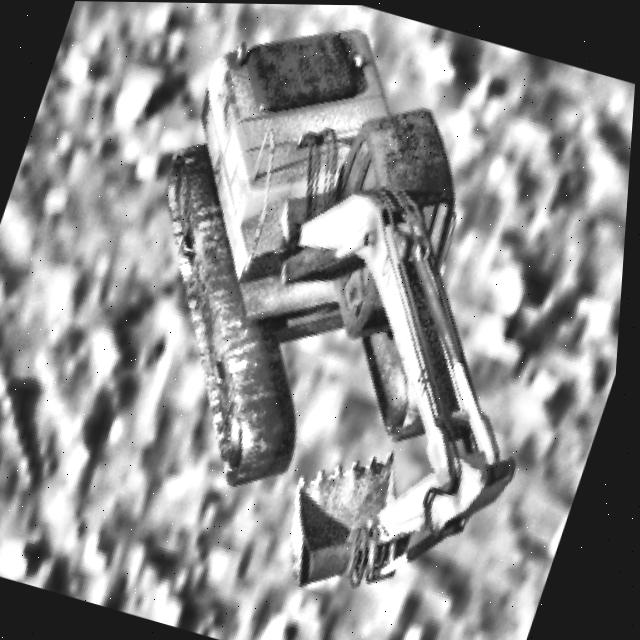excavator: (53, 1, 640, 632)
